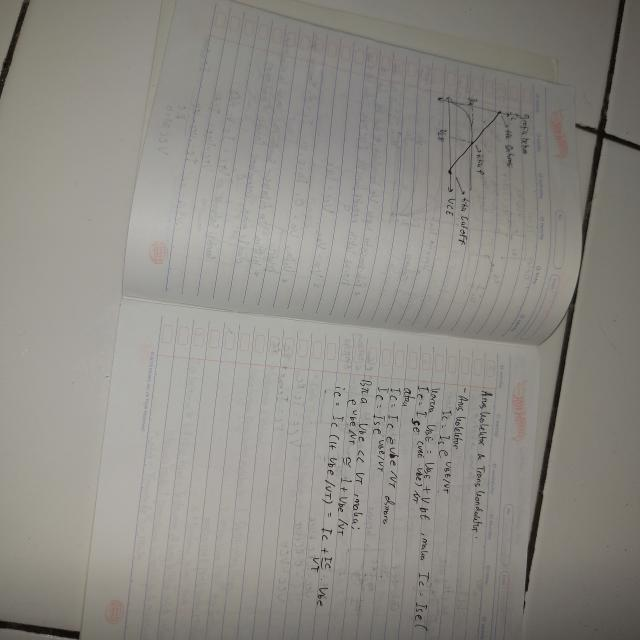Organik: (81, 0, 580, 640)
